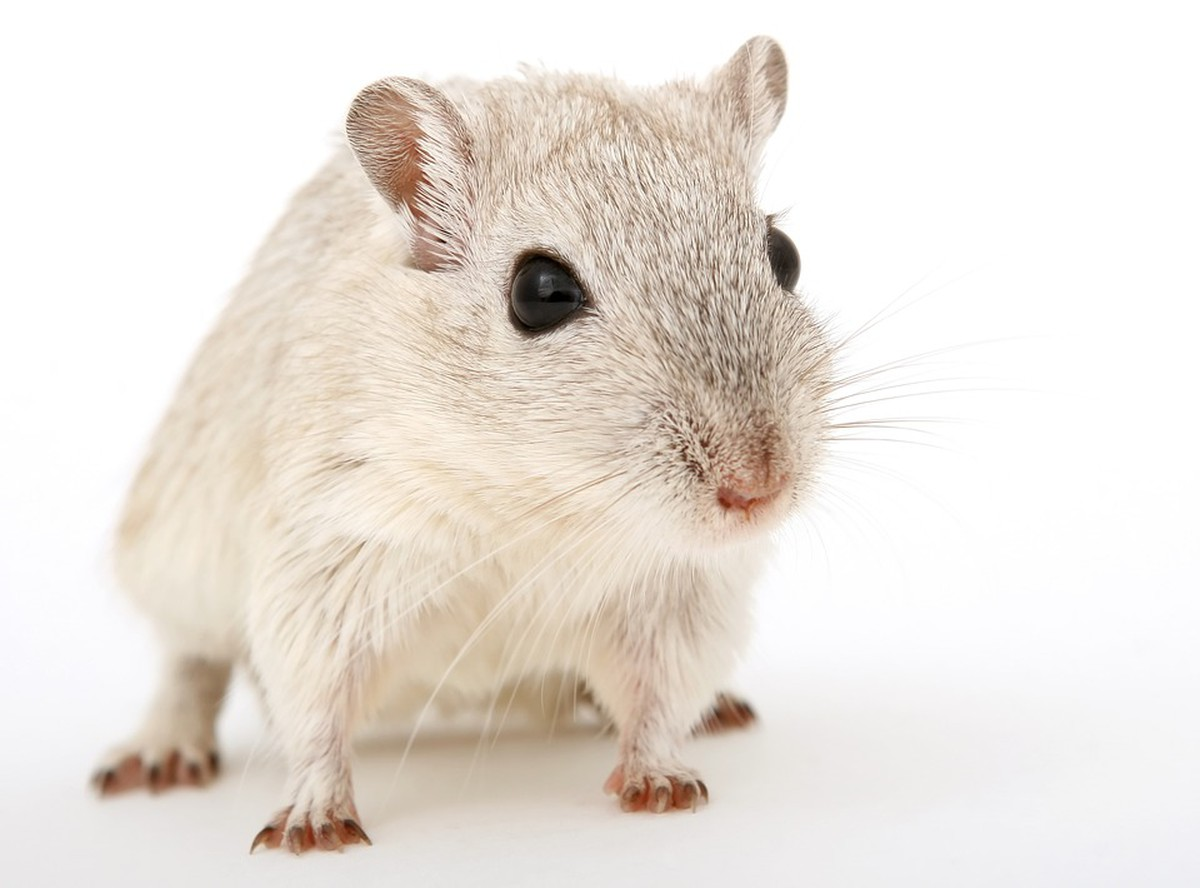rat: (70, 17, 887, 865)
